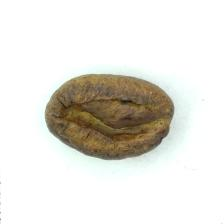NG: (56, 85, 165, 147)
